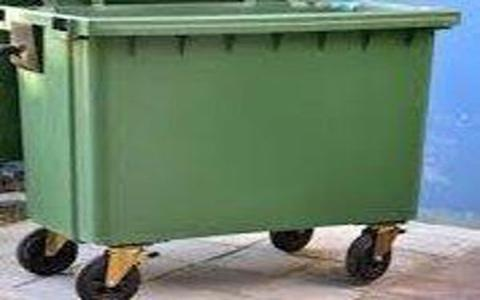Proper garbage: (1, 2, 476, 296)
